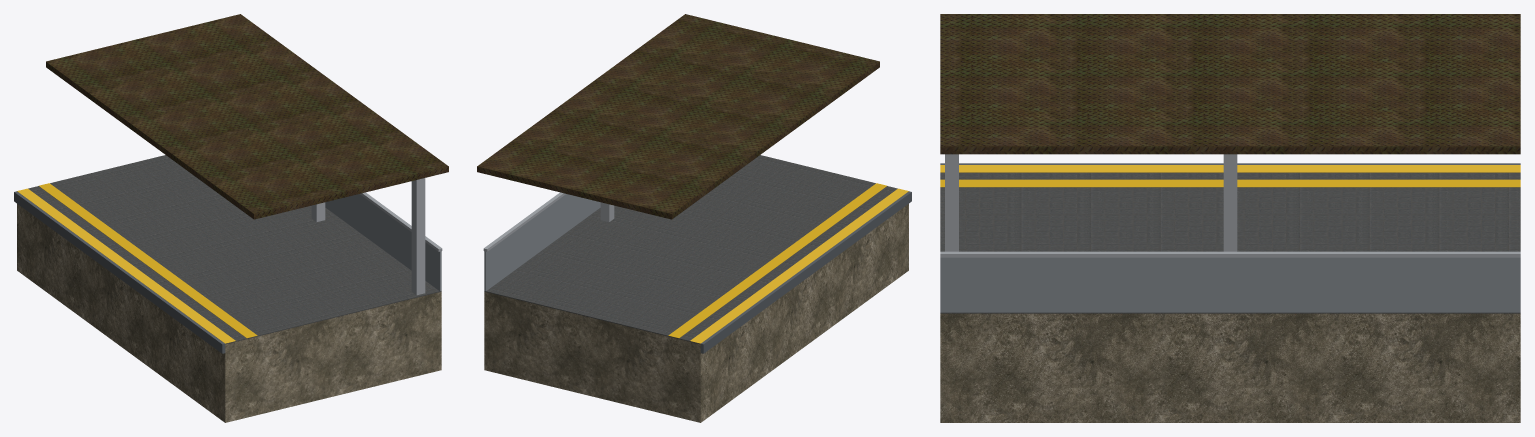
Rendered from platform-open.glb.
3 renders of one model, left to right at view 1: azimuth 30°, elevation 25°; view 2: azimuth 150°, elevation 25°; view 3: azimuth 270°, elevation 25°, orthographic. The views are drawn at different scales.
Parts seen in each view (by area): view 1: PlatformOpen; view 2: PlatformOpen; view 3: PlatformOpen.
Part boxes in pixels (x1,y1,x2,y2): PlatformOpen: [14, 14, 448, 422]; PlatformOpen: [477, 14, 911, 422]; PlatformOpen: [940, 14, 1520, 422].
Bounding box in the file's own units: 6.28 × 5.35 × 10.
Materials: 9 (3 with a texture image).
